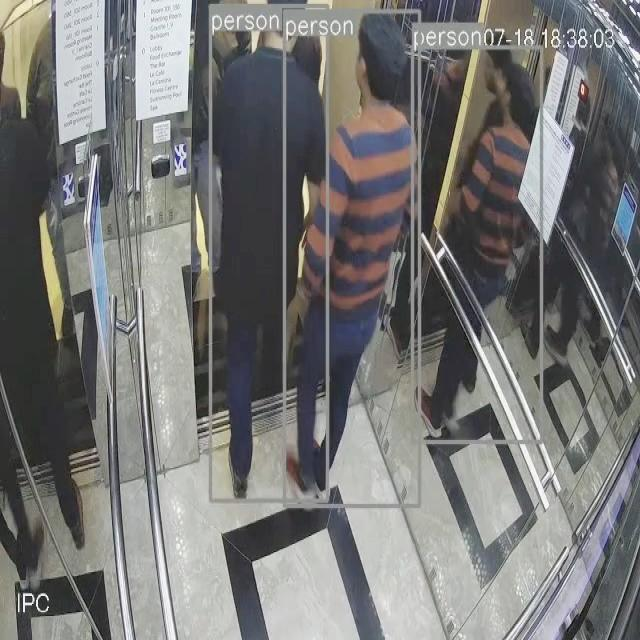gun: (283, 15, 424, 509), (212, 8, 333, 506), (0, 65, 90, 608), (423, 48, 541, 455)
